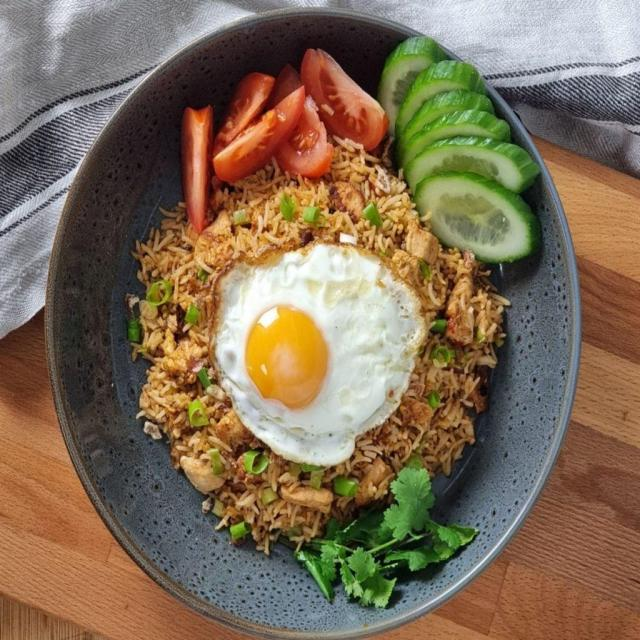Nasi Goreng: (126, 139, 515, 535)
